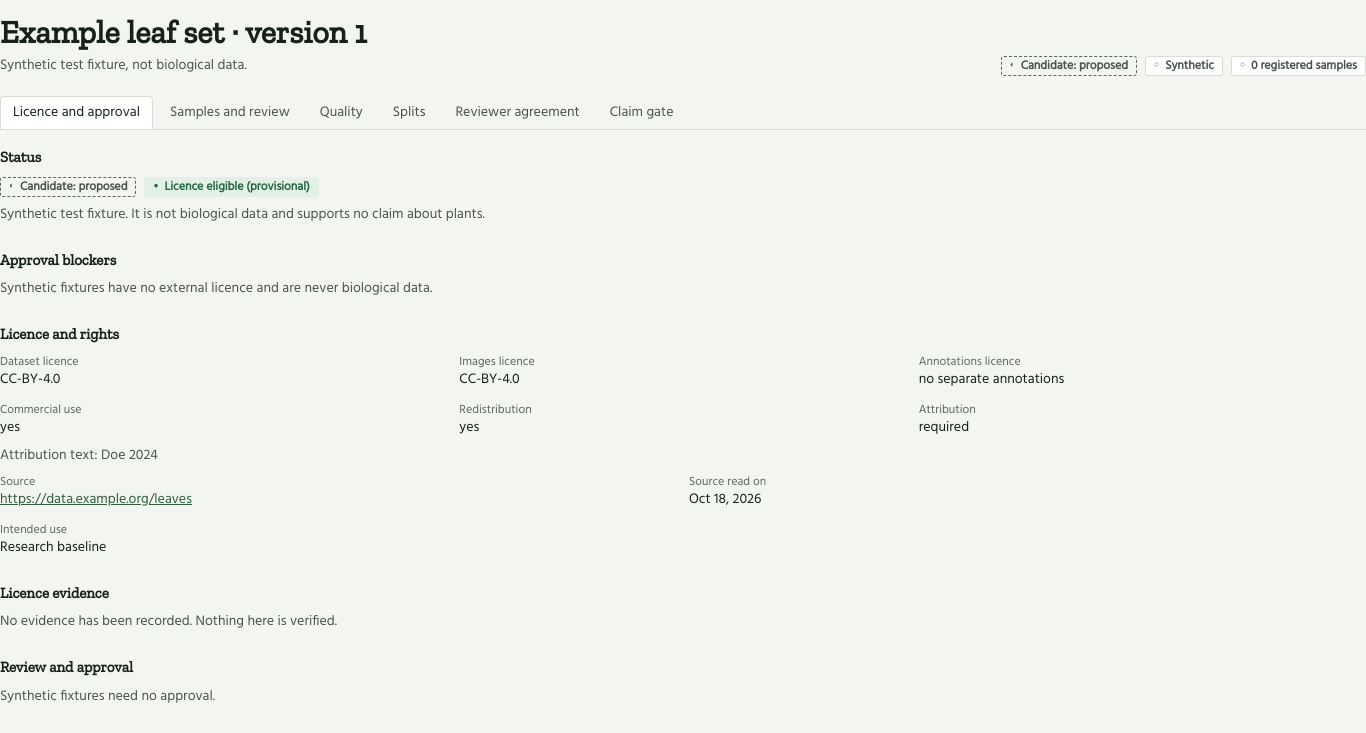
Test: dataset detail: samples and label review › shows a refusal from the server on a review
The width and height of the screenshot is (1366, 733).
Click the tab "Samples and review".
click(230, 112)  # box top-left (157, 96), bottom-right (303, 129)
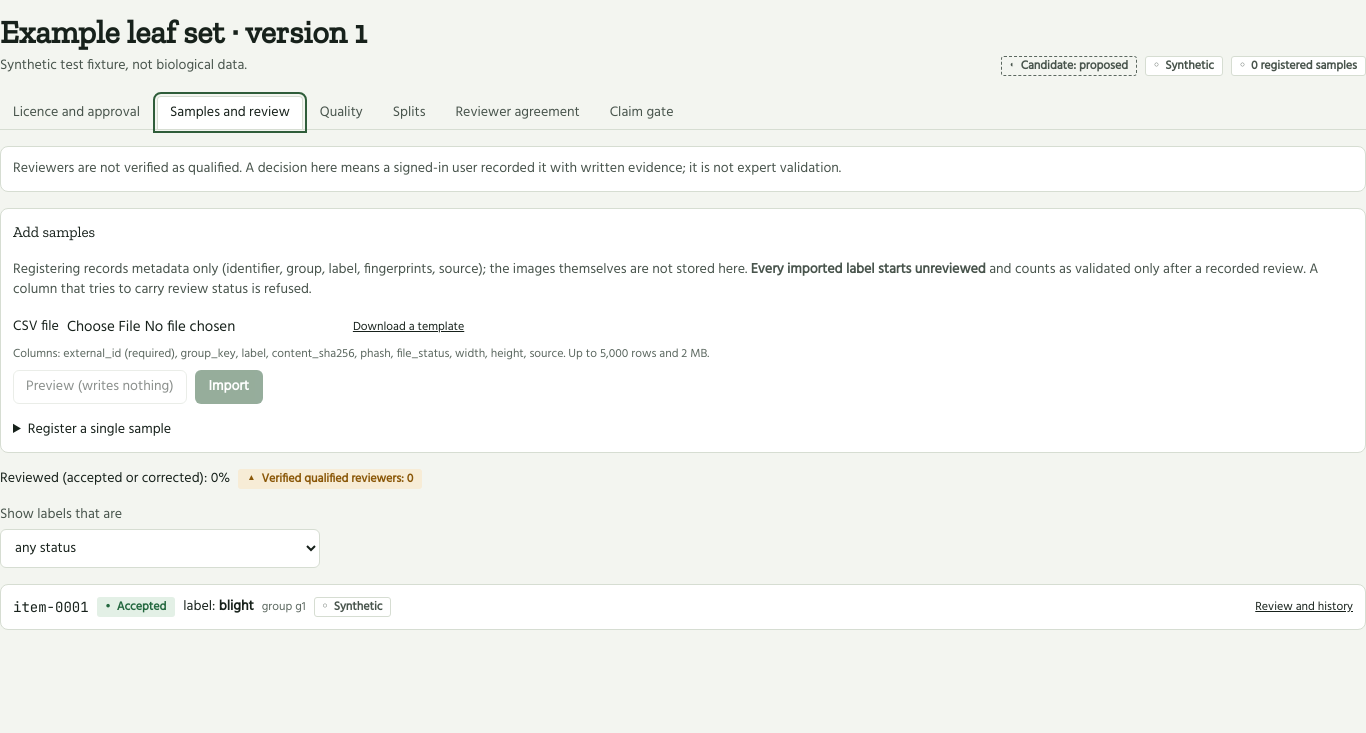
Click the button "Review and history".
click(1304, 607)  # box top-left (1255, 599), bottom-right (1353, 615)
(page scrolled)
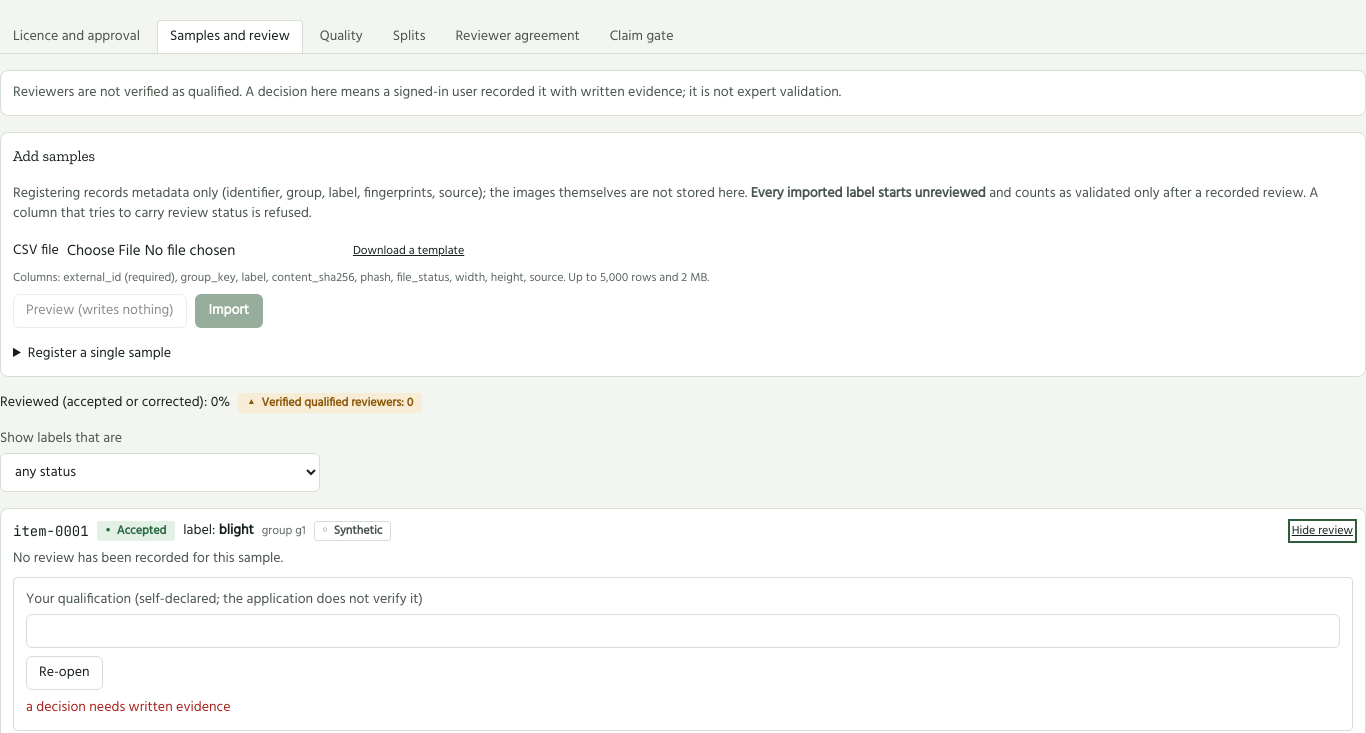
Check: the message reads "a decision needs written evidence", box top-left (26, 696), bottom-right (230, 719)
Check: the button "Re-open" is shown, box top-left (26, 656), bottom-right (102, 690)
